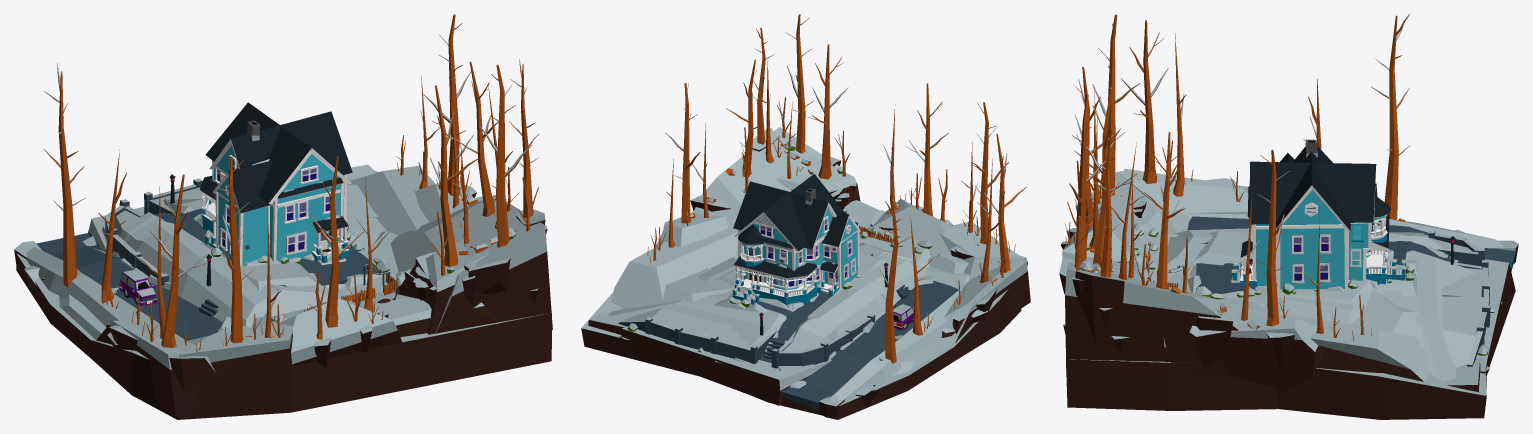
File: DeaverHouse.obj
The picture shows the model from 3 angles, left to right: view 1: azimuth 30°, elevation 25°; view 2: azimuth 150°, elevation 25°; view 3: azimuth 270°, elevation 25°; orthographic projection. The views are drawn at different scales.
Parts seen in each view (by area): view 1: group2060585404, group1504191420, group101140434, group154548097, group231707998, group1624478577, group1617572247, group1108866900, group990022888, group1355921627, group1472510813, group1355497569 (+23 smaller); view 2: group2060585404, group154548097, group1504191420, group1742717586, group1617572247, group101140434, group1108866900, group990022888, group1355921627, group1624478577, group231707998, group1355497569 (+24 smaller); view 3: group2060585404, group1504191420, group101140434, group154548097, group1280178183, group1617572247, group1355921627, group1145969062, group1196403785, group1742717586, group1374377478, group121120412 (+30 smaller).
Part boxes in pixels (box(x1,y1,x2,y2)): group2060585404: box(196, 102, 352, 266); group1504191420: box(16, 171, 551, 419); group101140434: box(390, 195, 552, 333); group154548097: box(112, 175, 386, 327); group231707998: box(179, 323, 296, 413); group1624478577: box(279, 298, 401, 365); group1617572247: box(347, 165, 435, 235); group1108866900: box(52, 245, 222, 340); group990022888: box(26, 247, 184, 340); group1355921627: box(96, 320, 198, 416); group1472510813: box(395, 235, 489, 334); group1355497569: box(251, 291, 499, 337); group2060585404: box(729, 174, 860, 309); group154548097: box(608, 253, 928, 359); group1504191420: box(581, 289, 1021, 419); group1742717586: box(621, 326, 831, 405); group1617572247: box(610, 228, 737, 308); group101140434: box(693, 127, 842, 254); group1108866900: box(803, 281, 958, 391); group990022888: box(828, 286, 963, 400); group1355921627: box(944, 259, 1030, 343); group1624478577: box(867, 199, 950, 257); group231707998: box(939, 222, 1022, 279); group1355497569: box(843, 200, 930, 268); group2060585404: box(1231, 139, 1415, 289); group1504191420: box(1066, 359, 1486, 419); group101140434: box(1065, 262, 1242, 376); group154548097: box(1174, 228, 1475, 380); group1280178183: box(1218, 310, 1324, 391); group1617572247: box(1236, 307, 1430, 381); group1355921627: box(1121, 168, 1248, 217); group1145969062: box(1075, 271, 1124, 344); group1196403785: box(1442, 295, 1483, 367); group1742717586: box(1476, 259, 1515, 370); group1374377478: box(1370, 14, 1409, 220); group121120412: box(1350, 290, 1423, 346).
Bounding box in the file's own units: 6.01 × 4.4 × 6.26.
